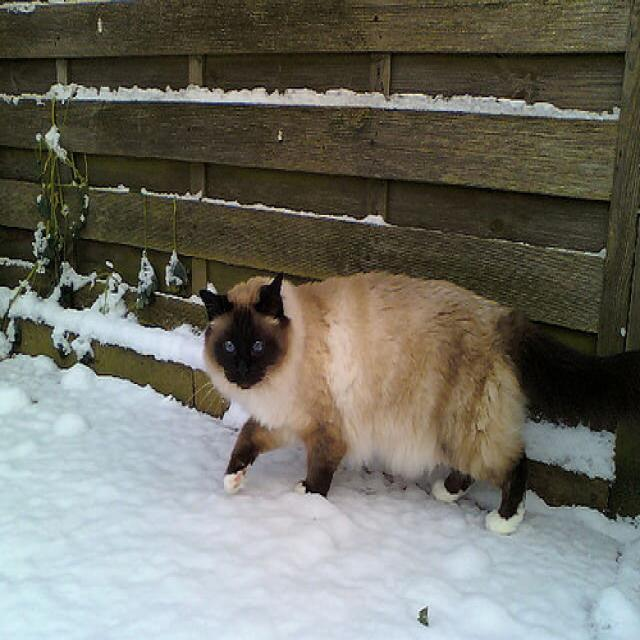Birman: (198, 268, 288, 387)
